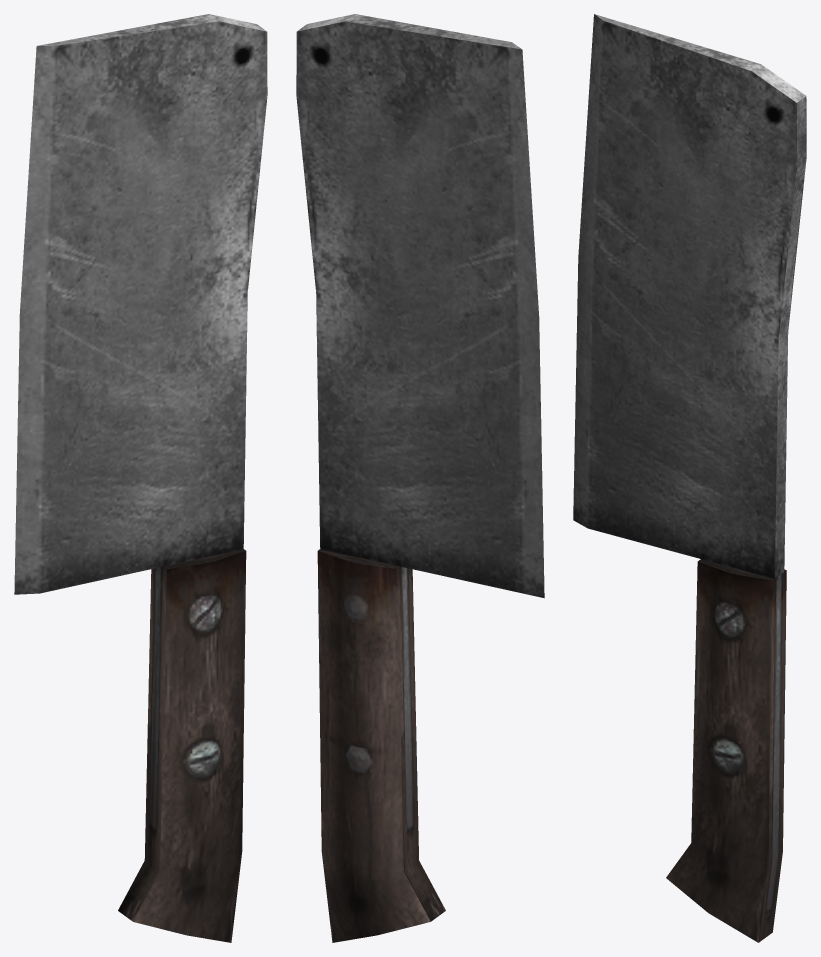
File: cleaver.fbx
3 views of the same model, side by side, from view 1: azimuth 30°, elevation 25°; view 2: azimuth 150°, elevation 25°; view 3: azimuth 330°, elevation 25° (orthographic). The views are drawn at different scales.
Parts seen in each view (by area): view 1: cleaver; view 2: cleaver; view 3: cleaver.
Part boxes in pixels (bbox=[...]): cleaver: bbox=[14, 14, 267, 942]; cleaver: bbox=[296, 14, 544, 942]; cleaver: bbox=[573, 14, 806, 942].
Bounding box in the file's own units: 8.87 × 32.25 × 1.45.
1 material, 1 textured.
